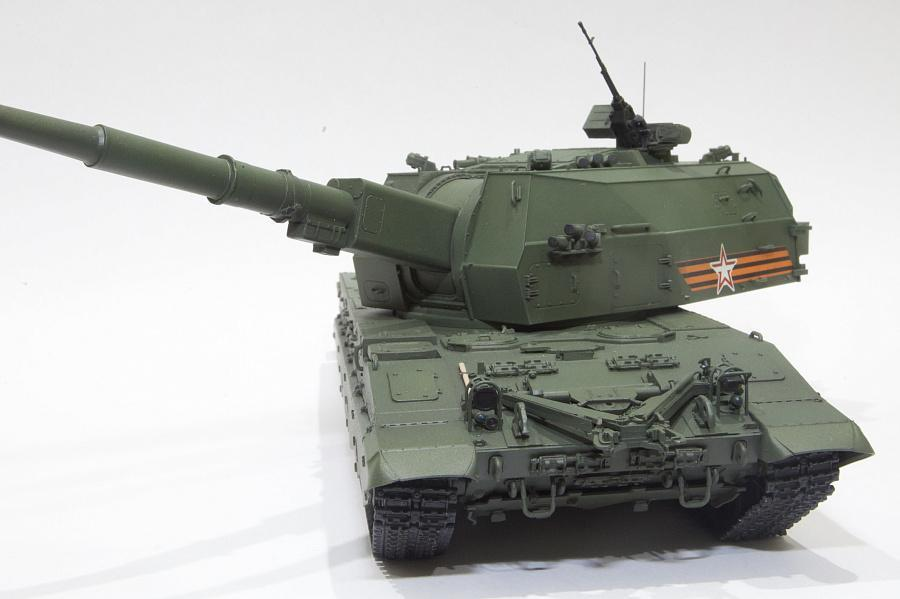sau: (3, 69, 900, 583)
